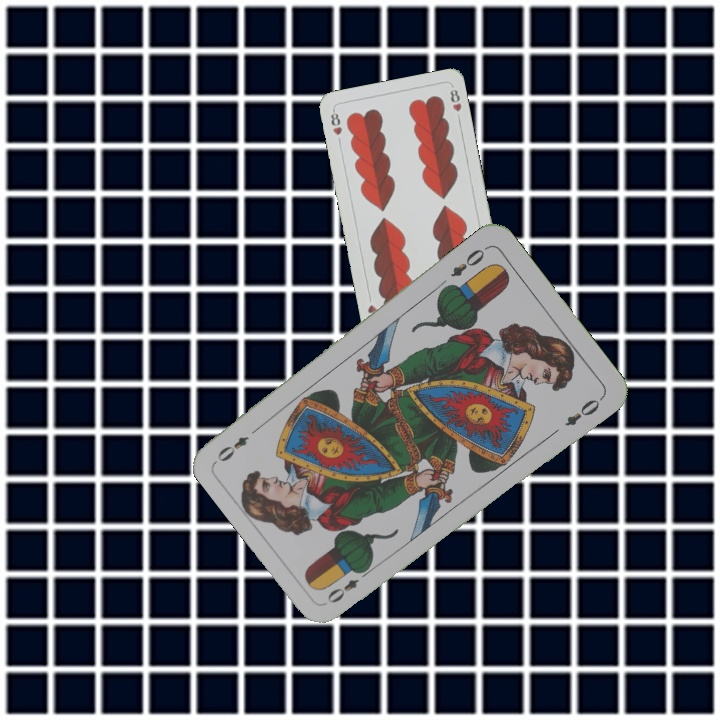EO: (323, 564, 373, 606), (446, 242, 491, 280)
H8: (327, 106, 345, 138)
